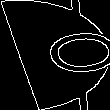O_W: (7, 29, 103, 81)
